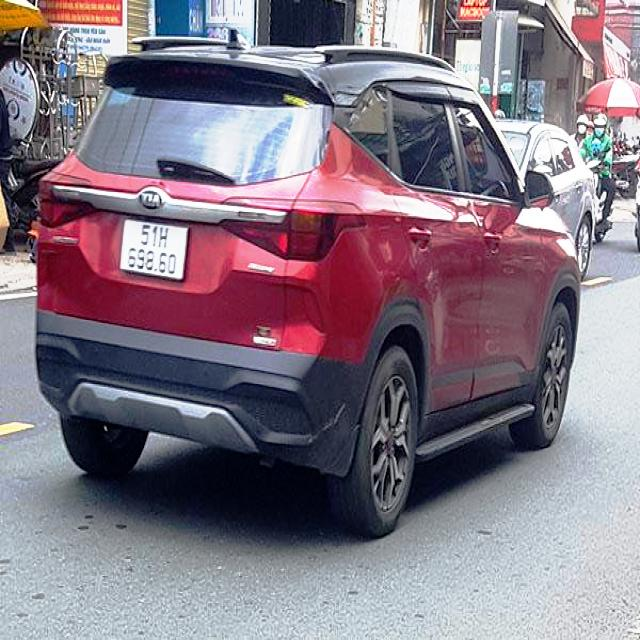license_plate: (122, 220, 189, 281)
